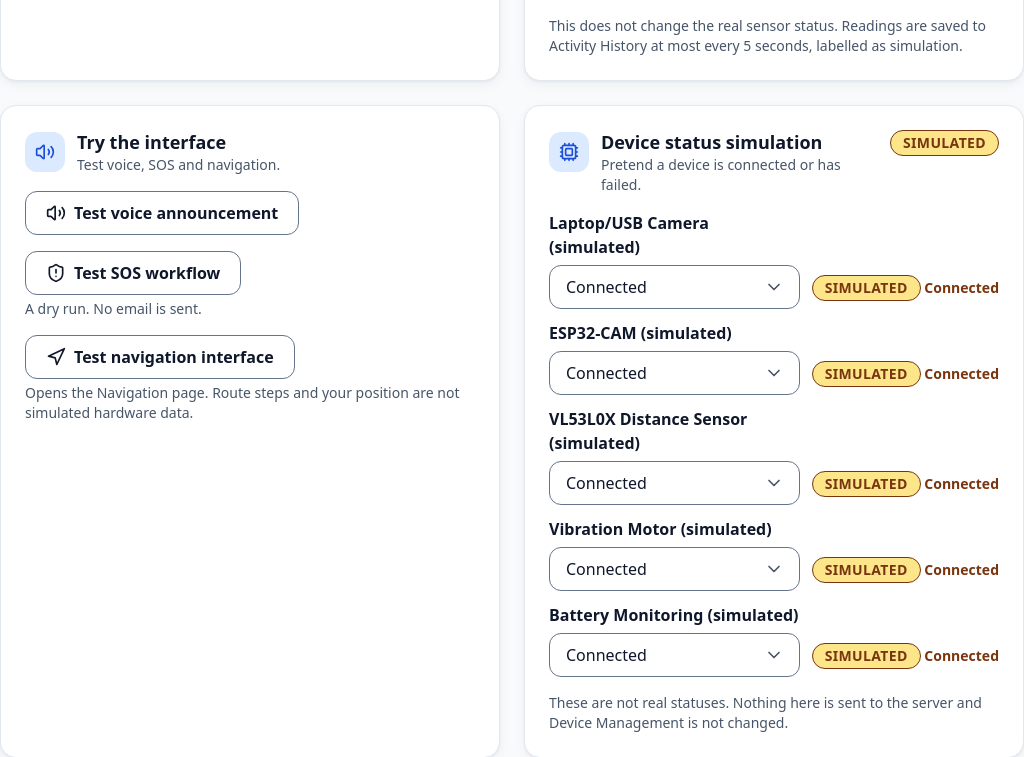
Test case: Simulation tools on the AI page › device simulation is labelled and sends nothing
This screenshot has width=1024, height=757.
(page scrolled)
Select "Error" in the dropdown labelled "ESP32-CAM (simulated)" at (674, 373), box [549, 351, 800, 395]
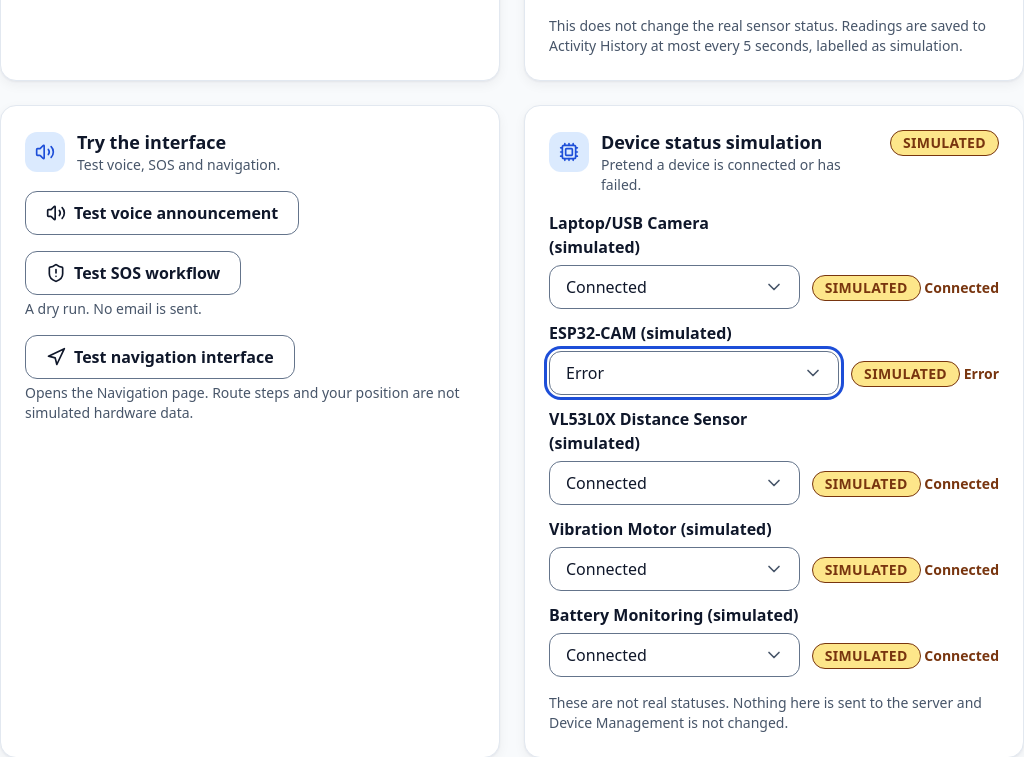
Check: the element with test id "sim-esp32_cam" reads "Simulated Error", box [851, 361, 999, 395]
